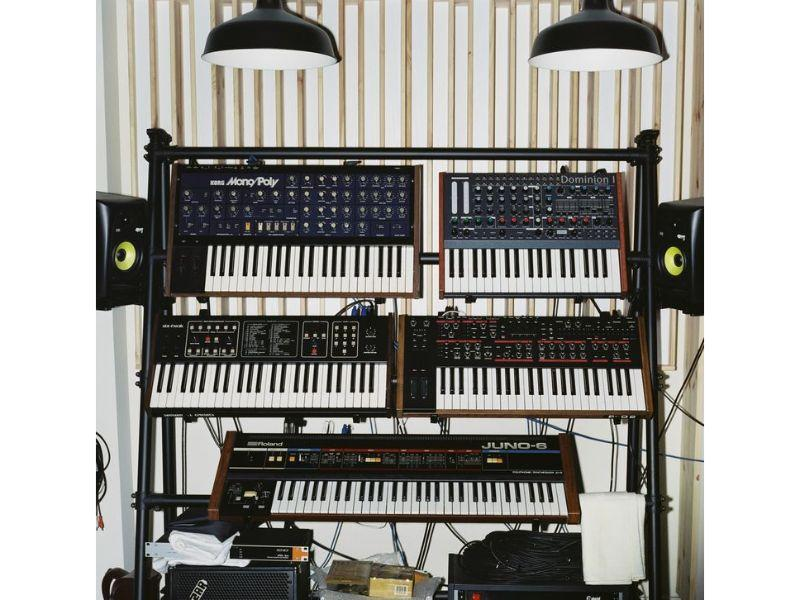synthesizer: (196, 422, 600, 528), (166, 153, 420, 297), (400, 307, 658, 425), (431, 165, 632, 303), (146, 317, 389, 416)
